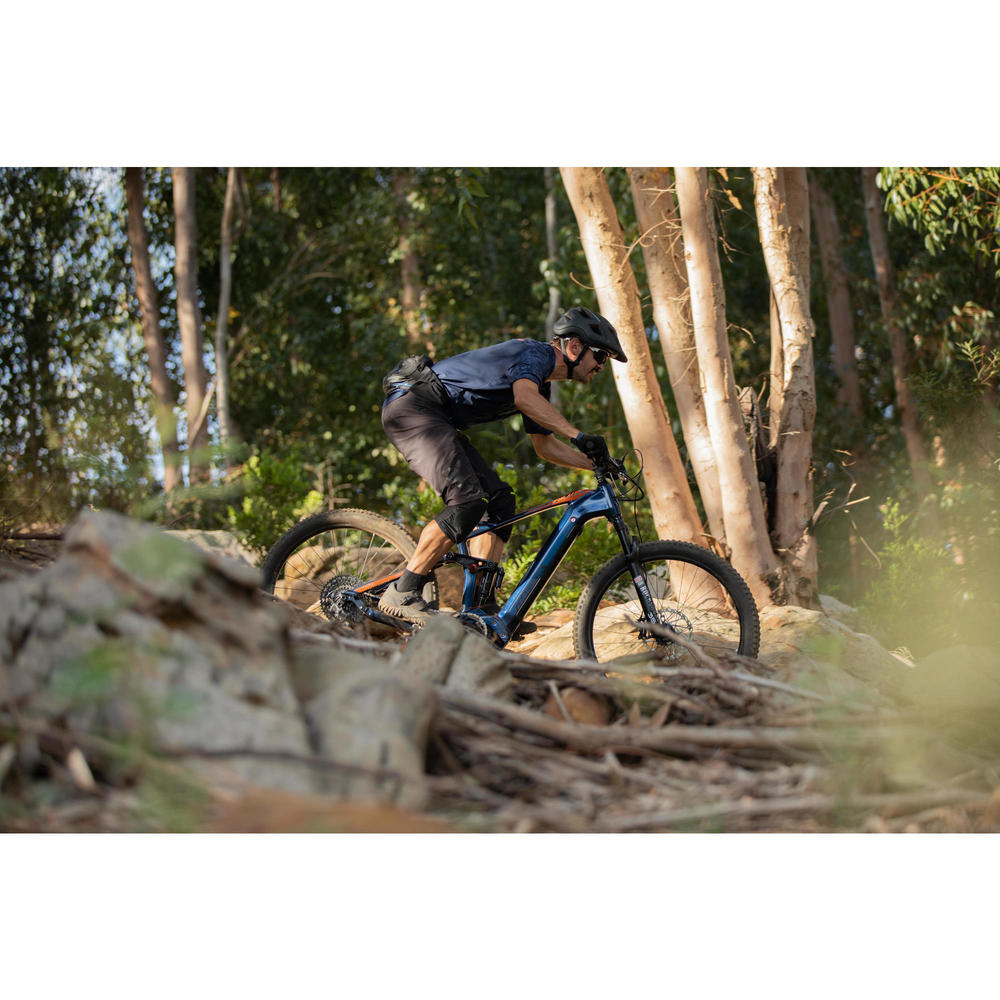MountainBike: (293, 440, 766, 682)
